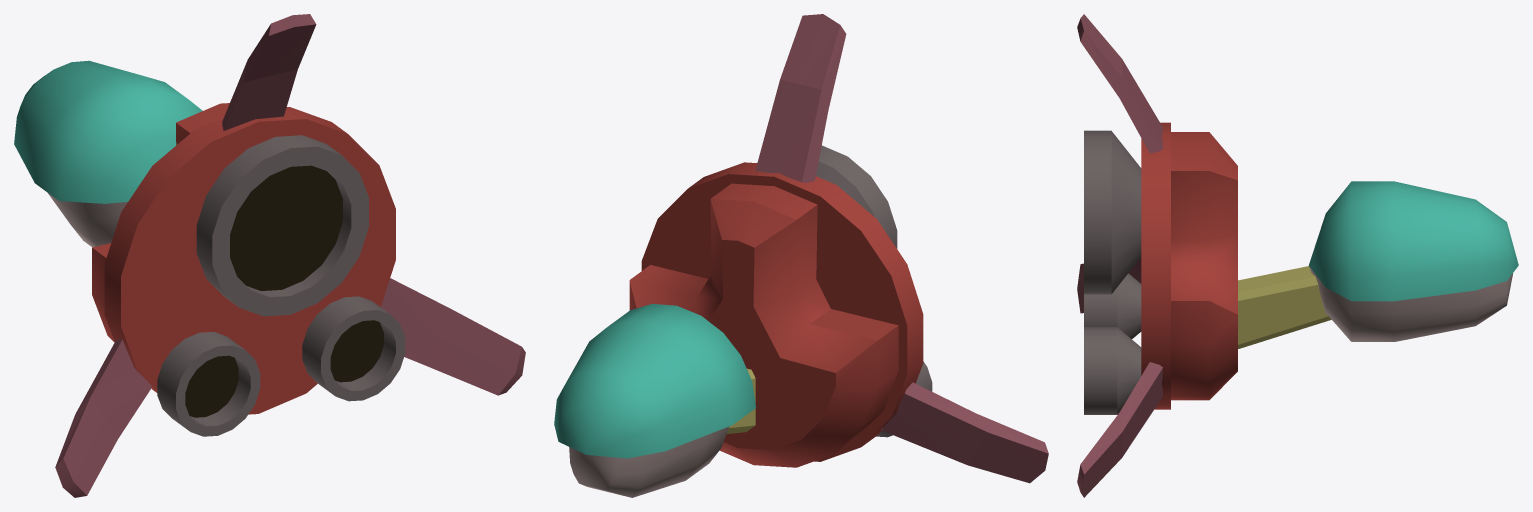
The model's file is sc_supplyShip.FBX.
3 renders of one model, left to right at view 1: azimuth 30°, elevation 25°; view 2: azimuth 150°, elevation 25°; view 3: azimuth 270°, elevation 25°, orthographic. The views are drawn at different scales.
Parts seen in each view (by area): view 1: sc_supplyShip; view 2: sc_supplyShip; view 3: sc_supplyShip.
Part boxes in pixels (left/top/right/bottom): sc_supplyShip: left=14, top=14, right=525, bottom=497; sc_supplyShip: left=554, top=14, right=1048, bottom=497; sc_supplyShip: left=1077, top=14, right=1518, bottom=497.
Bounding box in the file's own units: 4.12 × 3.61 × 3.75.
